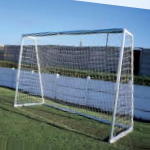goals: (14, 28, 135, 143)
